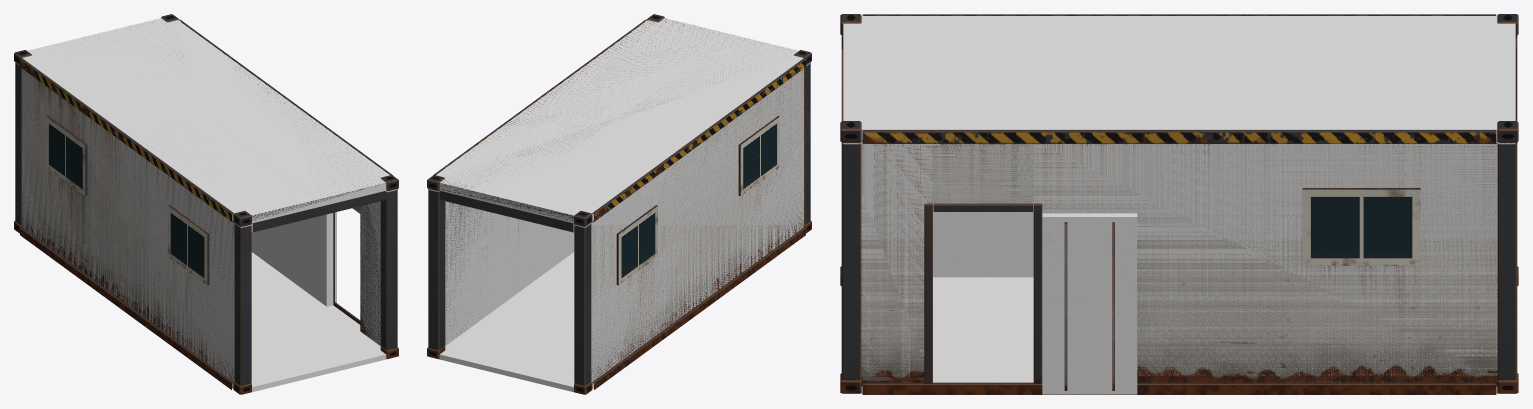
Rendered from Kit_Lot_Container20_01.glb.
3 views of the same model, side by side, from view 1: azimuth 30°, elevation 25°; view 2: azimuth 150°, elevation 25°; view 3: azimuth 270°, elevation 25° (orthographic). The views are drawn at different scales.
Parts seen in each view (by area): view 1: Kit_Lot_Container20_01_LOD0, COL_Kit_Lot_Container20_01_1, COL_Kit_Lot_Container20_01_2, COL_Kit_Lot_Container20_01_0, COL_Kit_Lot_Container20_01_3, COL_Kit_Lot_Container20_01_4; view 2: Kit_Lot_Container20_01_LOD0, COL_Kit_Lot_Container20_01_1, COL_Kit_Lot_Container20_01_2, COL_Kit_Lot_Container20_01_3, COL_Kit_Lot_Container20_01_0; view 3: Kit_Lot_Container20_01_LOD0, COL_Kit_Lot_Container20_01_1, COL_Kit_Lot_Container20_01_3, COL_Kit_Lot_Container20_01_6, COL_Kit_Lot_Container20_01_4, COL_Kit_Lot_Container20_01_0, COL_Kit_Lot_Container20_01_2, COL_Kit_Lot_Container20_01_5.
Boxes of the visible parts, x1=… form: Kit_Lot_Container20_01_LOD0: x1=14, y1=14, x2=398, y2=394; COL_Kit_Lot_Container20_01_1: x1=22, y1=18, x2=389, y2=222; COL_Kit_Lot_Container20_01_2: x1=22, y1=69, x2=247, y2=387; COL_Kit_Lot_Container20_01_0: x1=232, y1=252, x2=387, y2=394; COL_Kit_Lot_Container20_01_3: x1=251, y1=213, x2=333, y2=306; COL_Kit_Lot_Container20_01_4: x1=360, y1=189, x2=396, y2=345; Kit_Lot_Container20_01_LOD0: x1=427, y1=14, x2=811, y2=394; COL_Kit_Lot_Container20_01_1: x1=436, y1=18, x2=803, y2=222; COL_Kit_Lot_Container20_01_2: x1=578, y1=63, x2=809, y2=388; COL_Kit_Lot_Container20_01_3: x1=429, y1=189, x2=574, y2=345; COL_Kit_Lot_Container20_01_0: x1=438, y1=252, x2=593, y2=393; Kit_Lot_Container20_01_LOD0: x1=840, y1=14, x2=1518, y2=394; COL_Kit_Lot_Container20_01_1: x1=843, y1=16, x2=1515, y2=139; COL_Kit_Lot_Container20_01_3: x1=1033, y1=140, x2=1515, y2=382; COL_Kit_Lot_Container20_01_6: x1=1042, y1=213, x2=1137, y2=394; COL_Kit_Lot_Container20_01_4: x1=843, y1=140, x2=932, y2=382; COL_Kit_Lot_Container20_01_0: x1=843, y1=277, x2=1515, y2=393; COL_Kit_Lot_Container20_01_2: x1=933, y1=211, x2=1033, y2=277; COL_Kit_Lot_Container20_01_5: x1=933, y1=144, x2=1033, y2=210.
Size of what is drawn, in the model's own units: 10.26 by 10.46 by 24.2.
Materials: 1 (1 with a texture image).
